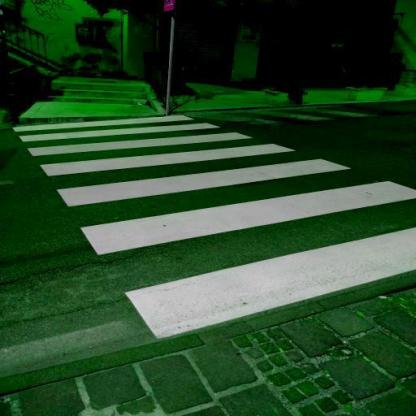crosswalk: (37, 140, 357, 213)
